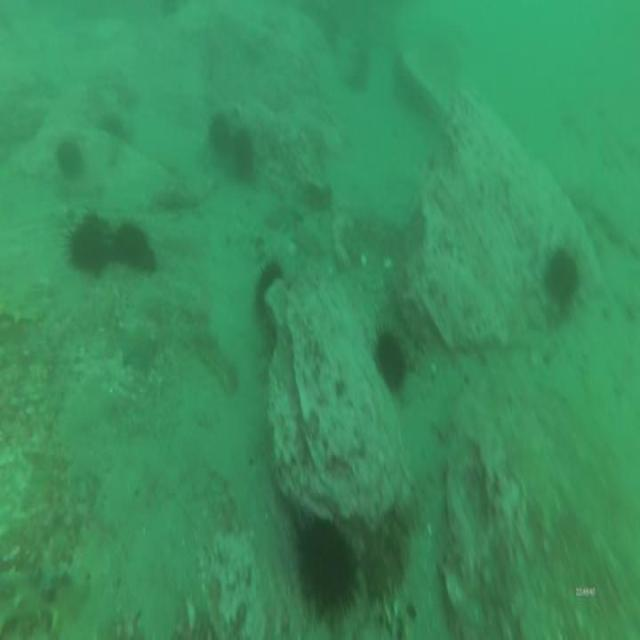echinus: (295, 510, 360, 634), (61, 204, 119, 280), (111, 215, 159, 281), (370, 324, 410, 398), (540, 242, 582, 311), (252, 253, 282, 327), (230, 124, 260, 186), (208, 108, 238, 168), (51, 132, 85, 182)
holothurian: (362, 493, 418, 605), (191, 327, 240, 403)
starfish: (118, 324, 159, 374)
